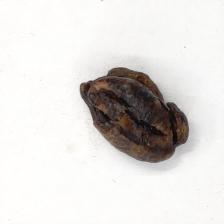NG: (80, 66, 188, 161)
